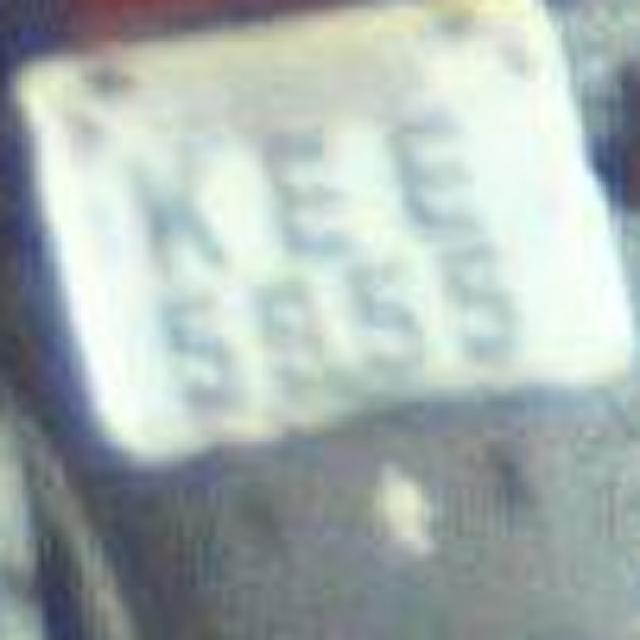5: (136, 296, 256, 429), (416, 231, 536, 364), (324, 244, 448, 371)
E: (236, 112, 364, 256), (368, 88, 492, 228)
